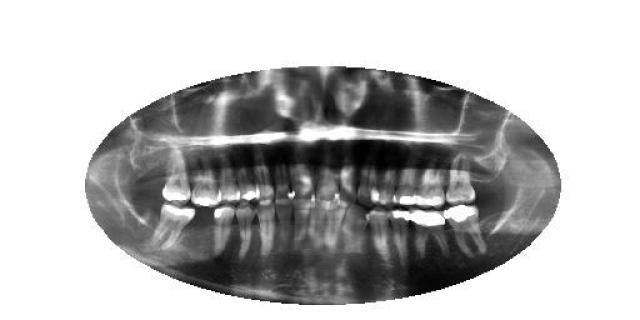Fillings: (442, 205, 487, 260), (410, 206, 450, 260), (190, 152, 220, 208), (416, 161, 444, 209), (388, 208, 410, 268), (211, 205, 235, 260), (235, 155, 257, 205), (394, 165, 416, 206)
